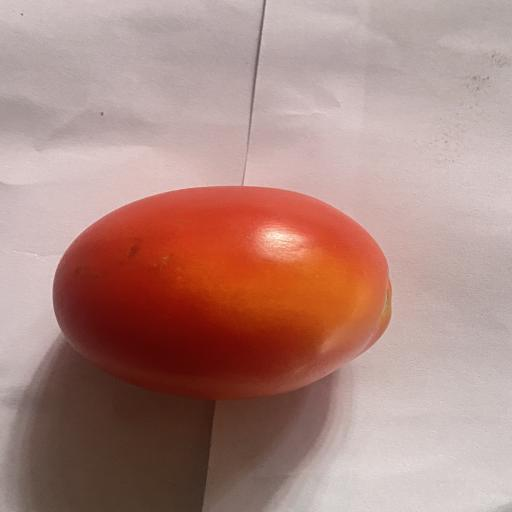ripe: (52, 186, 391, 400)
